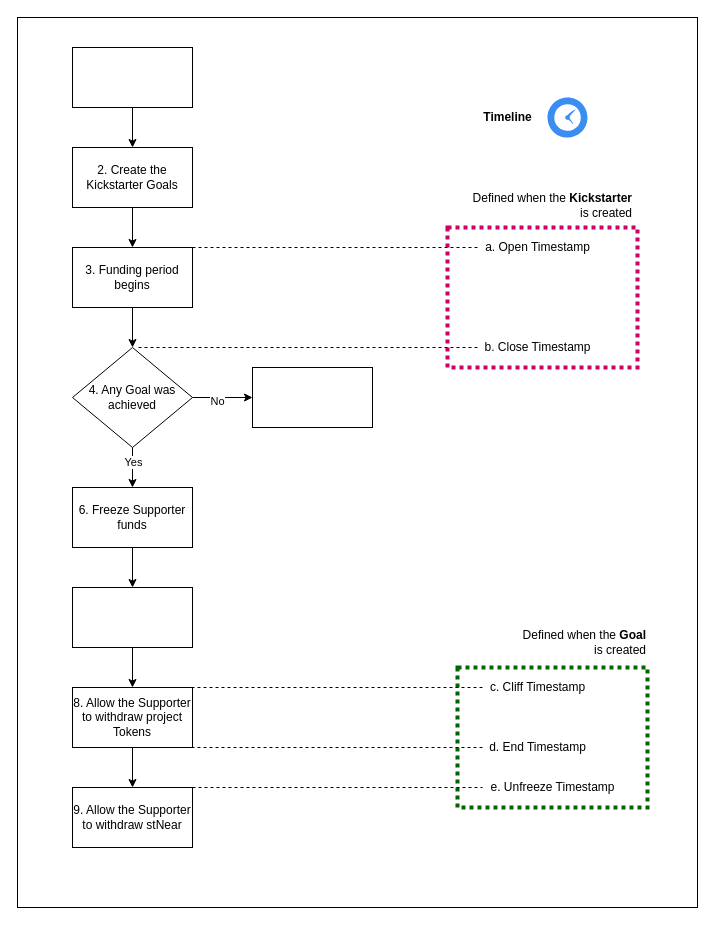
Some shapes in this 715 by 925 pixel diagram are drawn without their labels. The shapes that lost their labels are listed below. From the top down, each one's centre as x and y in pixels, then its label:
At pixel 132 77: "1. Create a Kickstarter".
At pixel 312 397: "5. Close Kickstarter".
At pixel 132 617: "7. Allow the Kickstarter to withdraw stNear".
